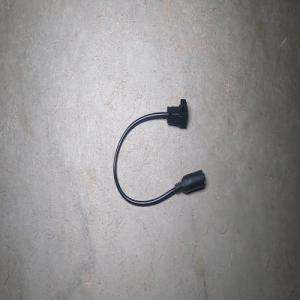Wire: (113, 98, 205, 207)
